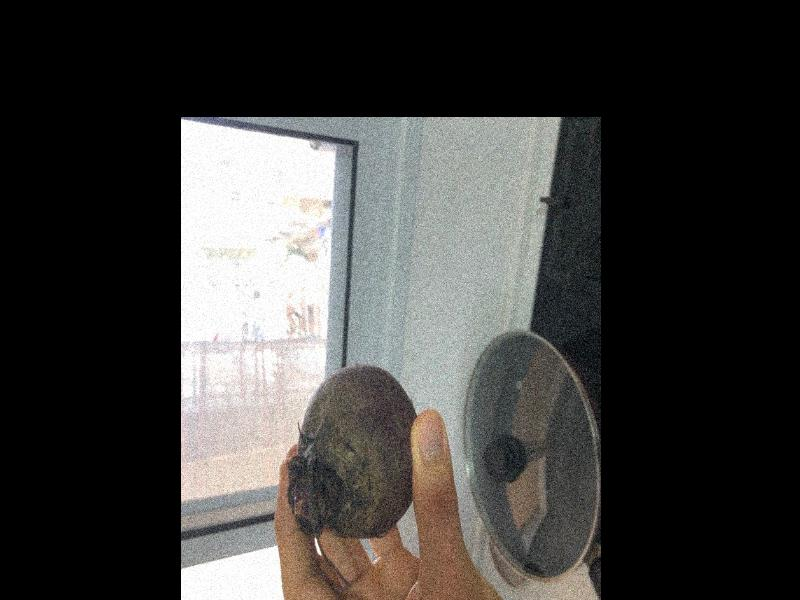Beet: (286, 364, 418, 589)
